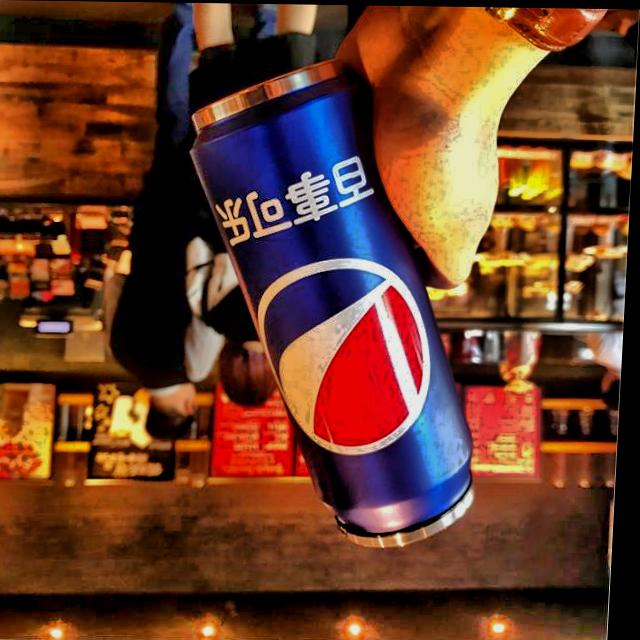can: (158, 51, 509, 564)
